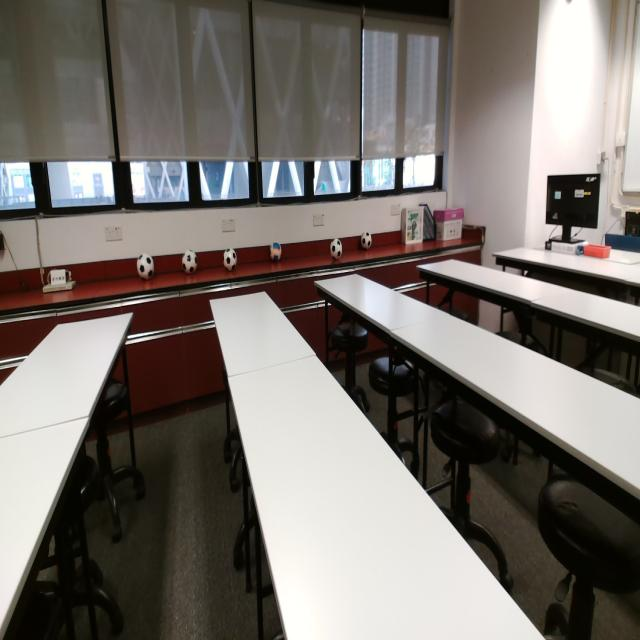ball: (138, 250, 155, 282), (222, 247, 239, 273), (182, 248, 198, 274), (269, 240, 282, 262), (330, 237, 342, 259), (360, 230, 372, 249)
